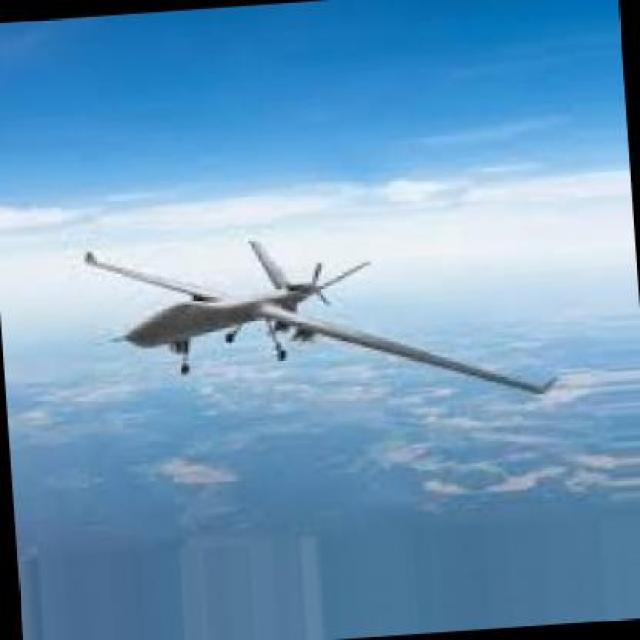iha: (80, 236, 564, 404)
